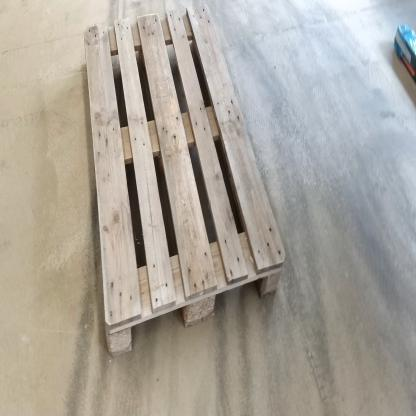BoxFace: (77, 1, 289, 366)
